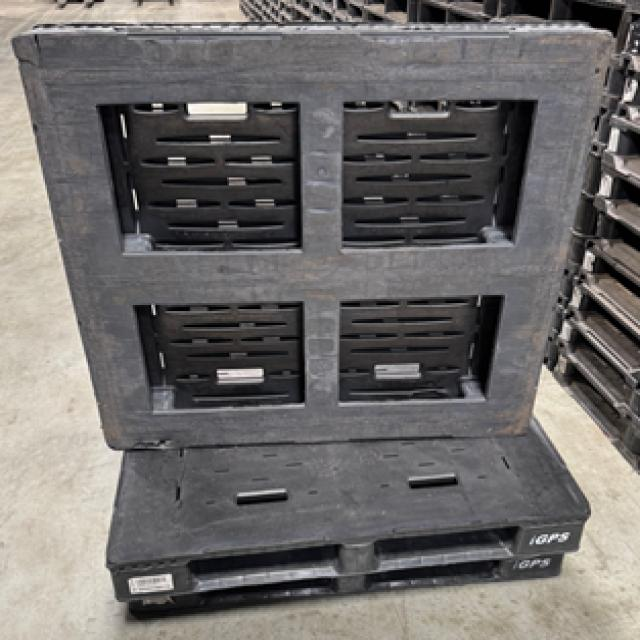igps: (11, 14, 626, 463), (99, 409, 598, 634), (547, 0, 638, 483)
